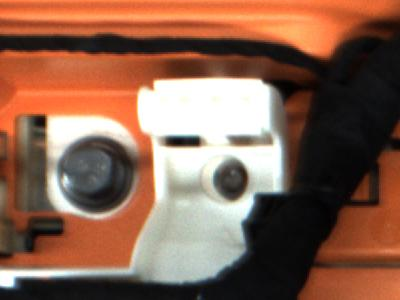nut_b: (54, 132, 140, 222)
